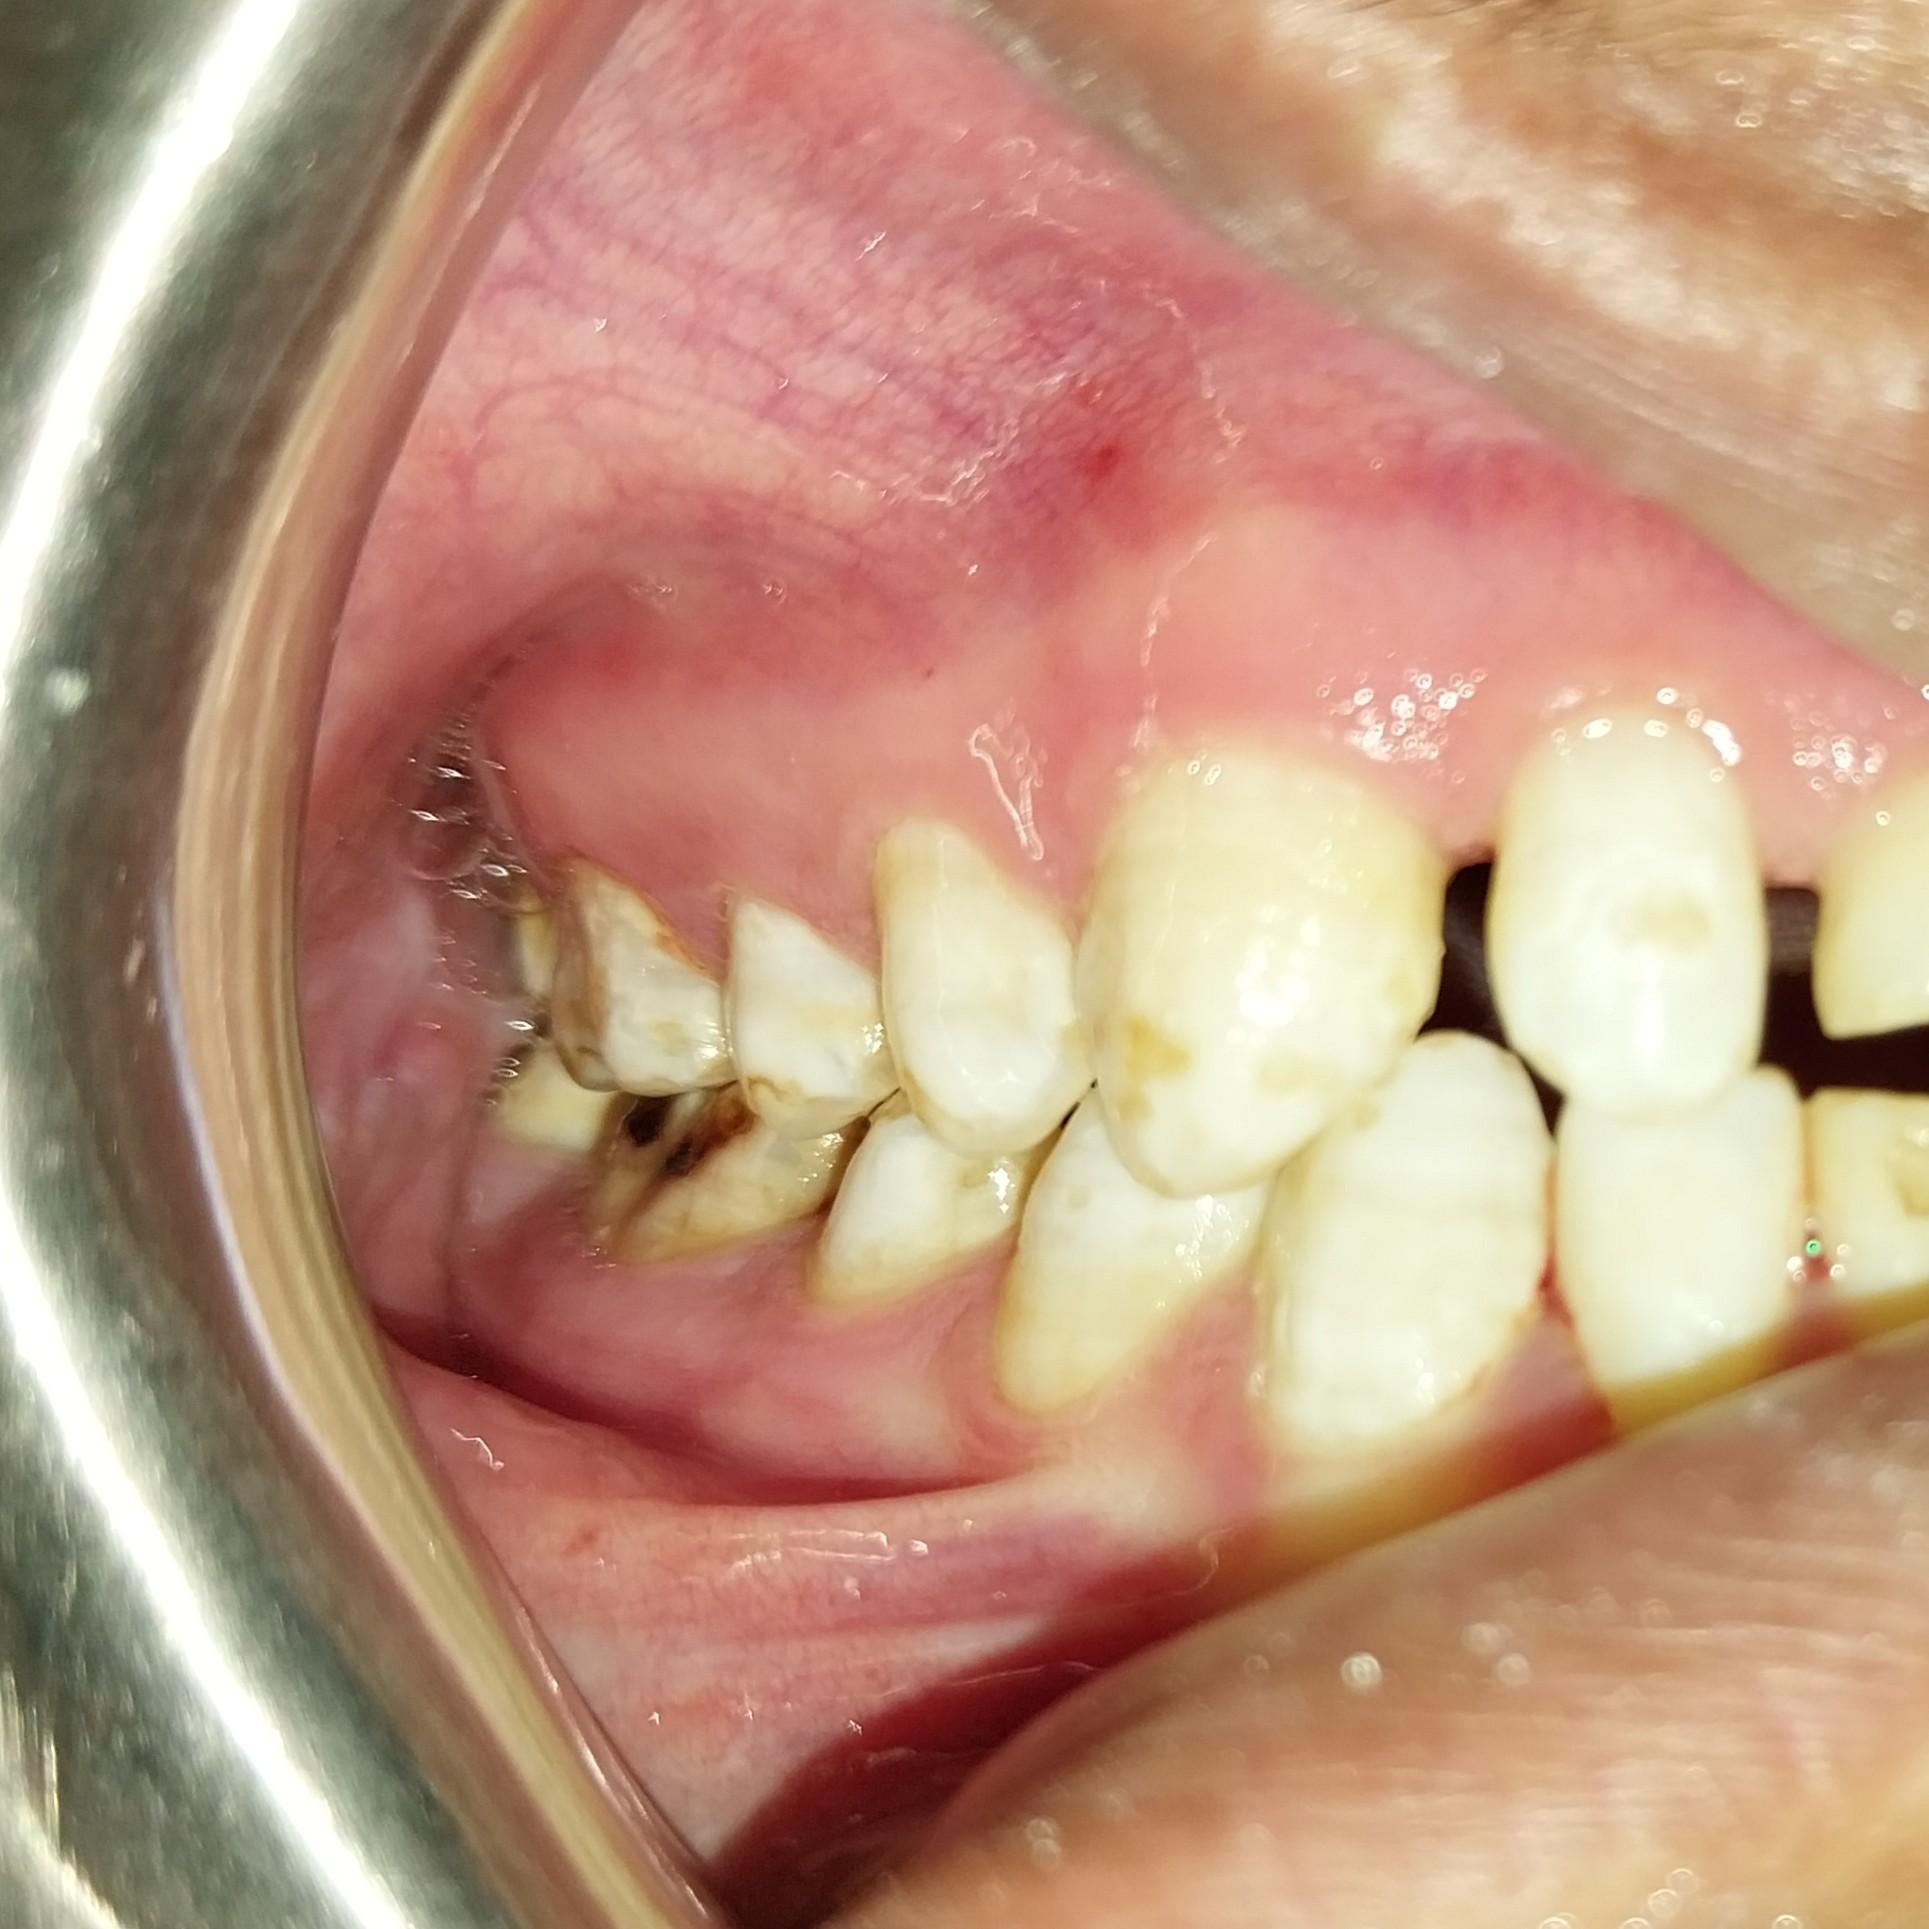D: (554, 1051, 867, 1264)
